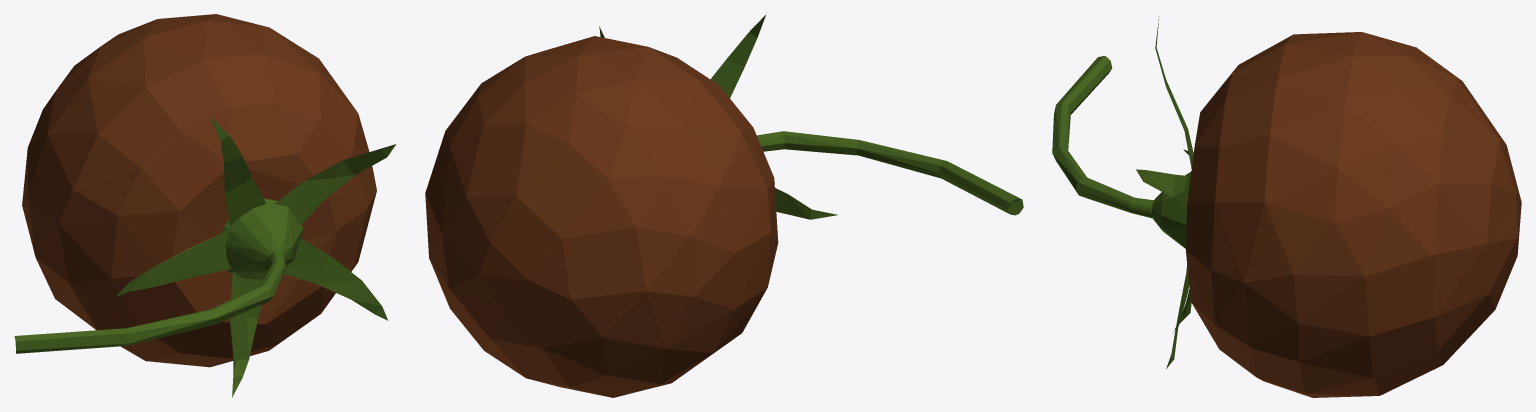
The model's file is TomatoFruitSimple.obj.
3 renders of one model, left to right at view 1: azimuth 30°, elevation 25°; view 2: azimuth 150°, elevation 25°; view 3: azimuth 270°, elevation 25°, orthographic. The views are drawn at different scales.
Visible parts, largest first — view 1: fruit, sepals; view 2: fruit, sepals; view 3: fruit, sepals.
Boxes of the visible parts, x1,y1,x2,y2 form: fruit: (22,14,376,367); sepals: (14,116,395,397); fruit: (425,36,778,397); sepals: (599,14,1023,219); fruit: (1186,32,1521,397); sepals: (1052,16,1193,368).
Bounding box in the file's own units: 7.93 × 5.41 × 6.86.
